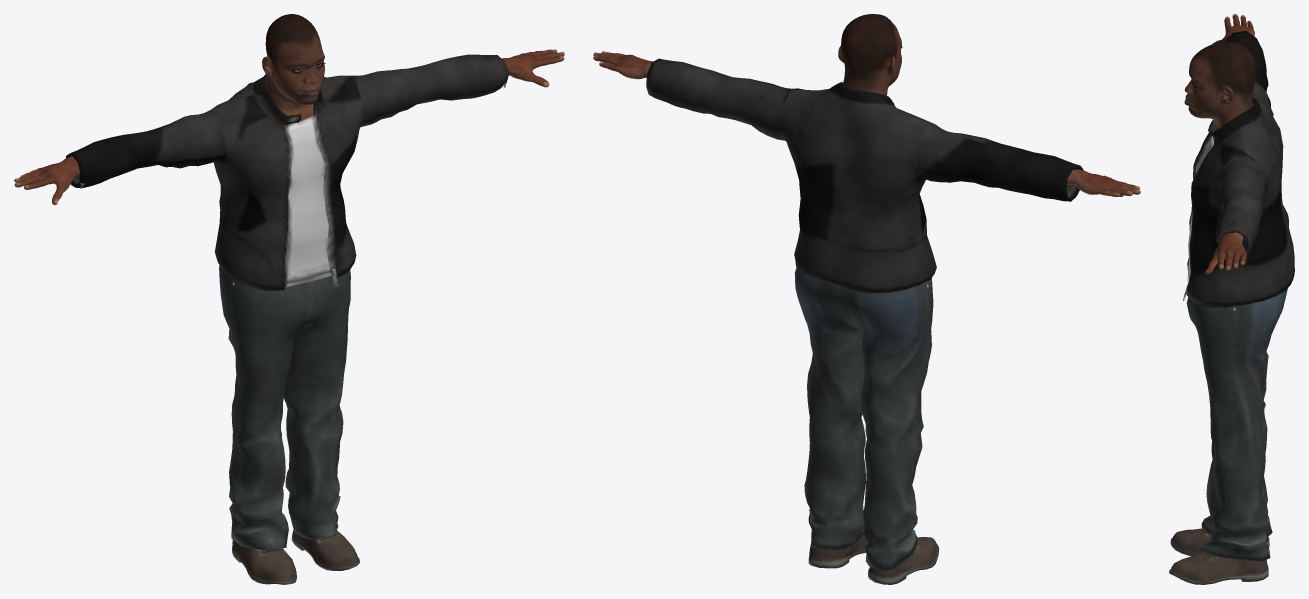
Rendered from MAN 1.obj.
3 views of the same model, side by side, from view 1: azimuth 30°, elevation 25°; view 2: azimuth 150°, elevation 25°; view 3: azimuth 270°, elevation 25° (orthographic). The views are drawn at different scales.
Visible parts, largest first — view 1: Tops, Bottoms, Body, Shoes; view 2: Tops, Bottoms, Body, Shoes; view 3: Tops, Bottoms, Body, Shoes.
Part boxes in pixels (x1,y1,x2,y2): Tops: (66,54,509,290); Bottoms: (219,266,350,550); Body: (14,14,564,204); Shoes: (232,529,359,584); Tops: (646,58,1083,292); Bottoms: (794,268,933,570); Body: (593,14,1140,196); Shoes: (808,526,939,584); Tops: (1183,31,1294,307); Bottoms: (1186,288,1287,561); Body: (1184,14,1255,274); Shoes: (1169,528,1269,584).
Bounding box in the file's own units: 194 × 184 × 40.27.
Materials: 1 (1 with a texture image).
